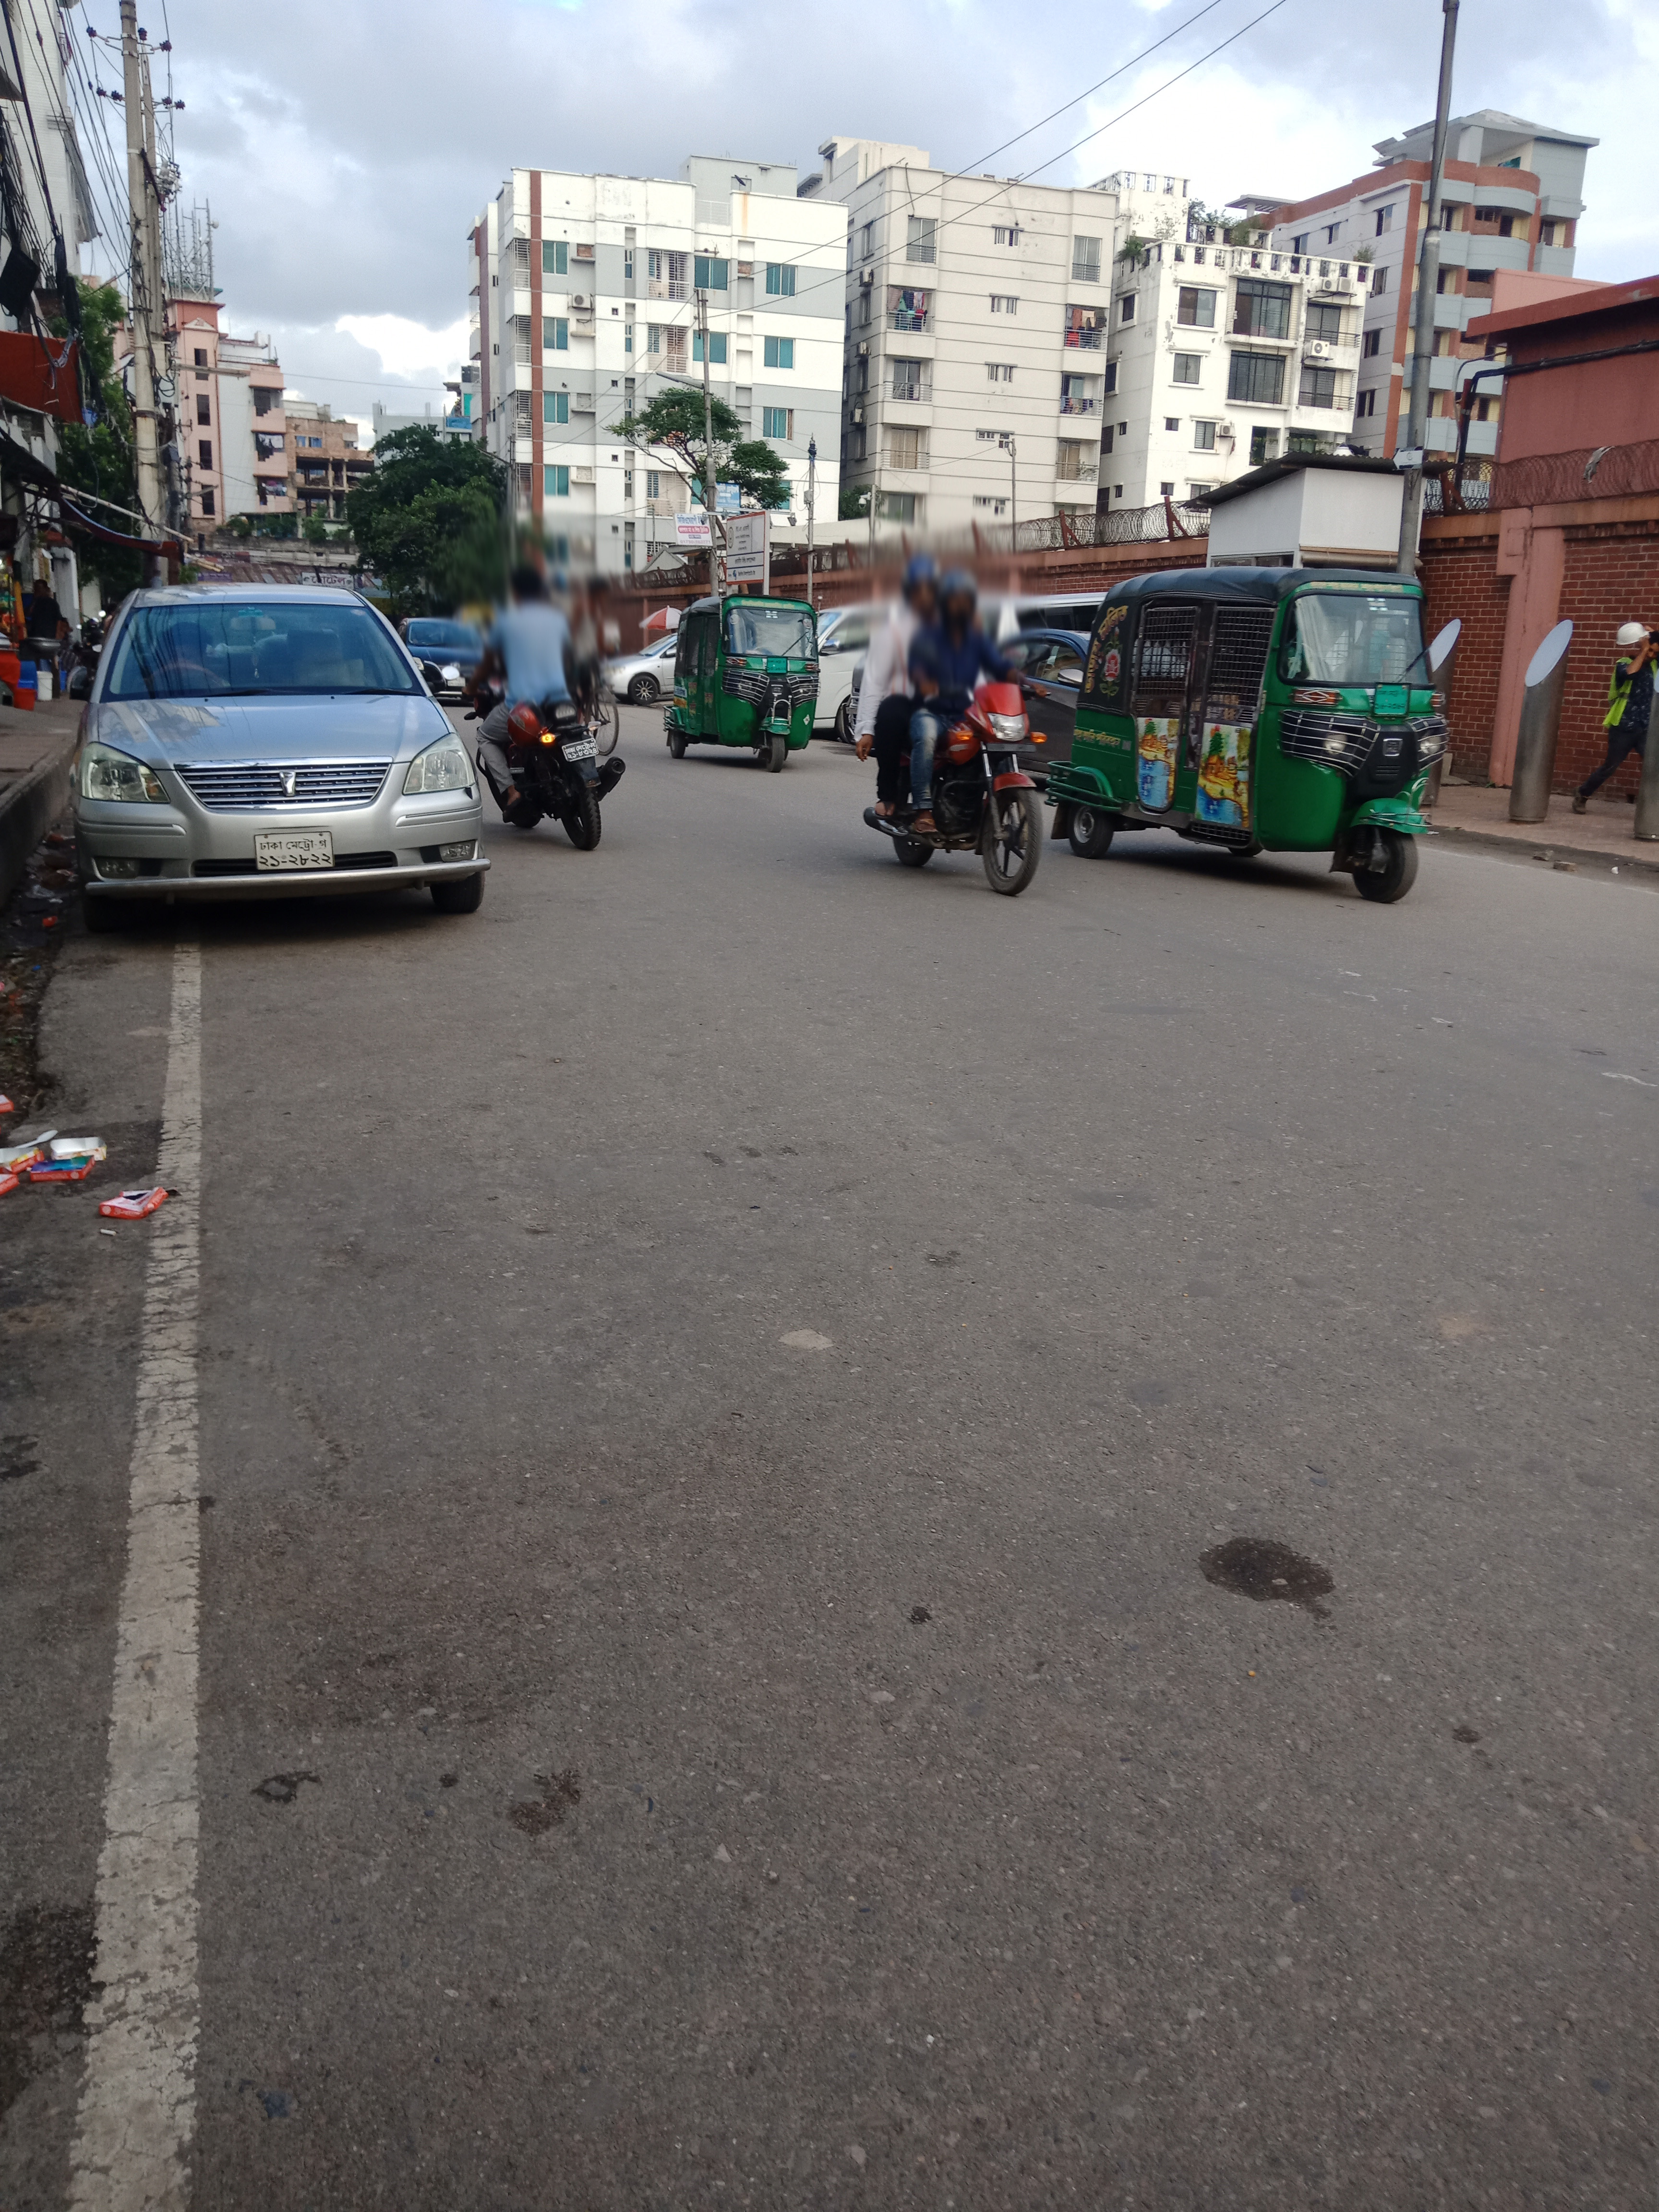bike: (857, 669, 1063, 906), (460, 658, 631, 860)
car: (51, 570, 493, 939), (404, 597, 490, 693)
cng: (1046, 545, 1460, 913), (666, 577, 829, 772)
